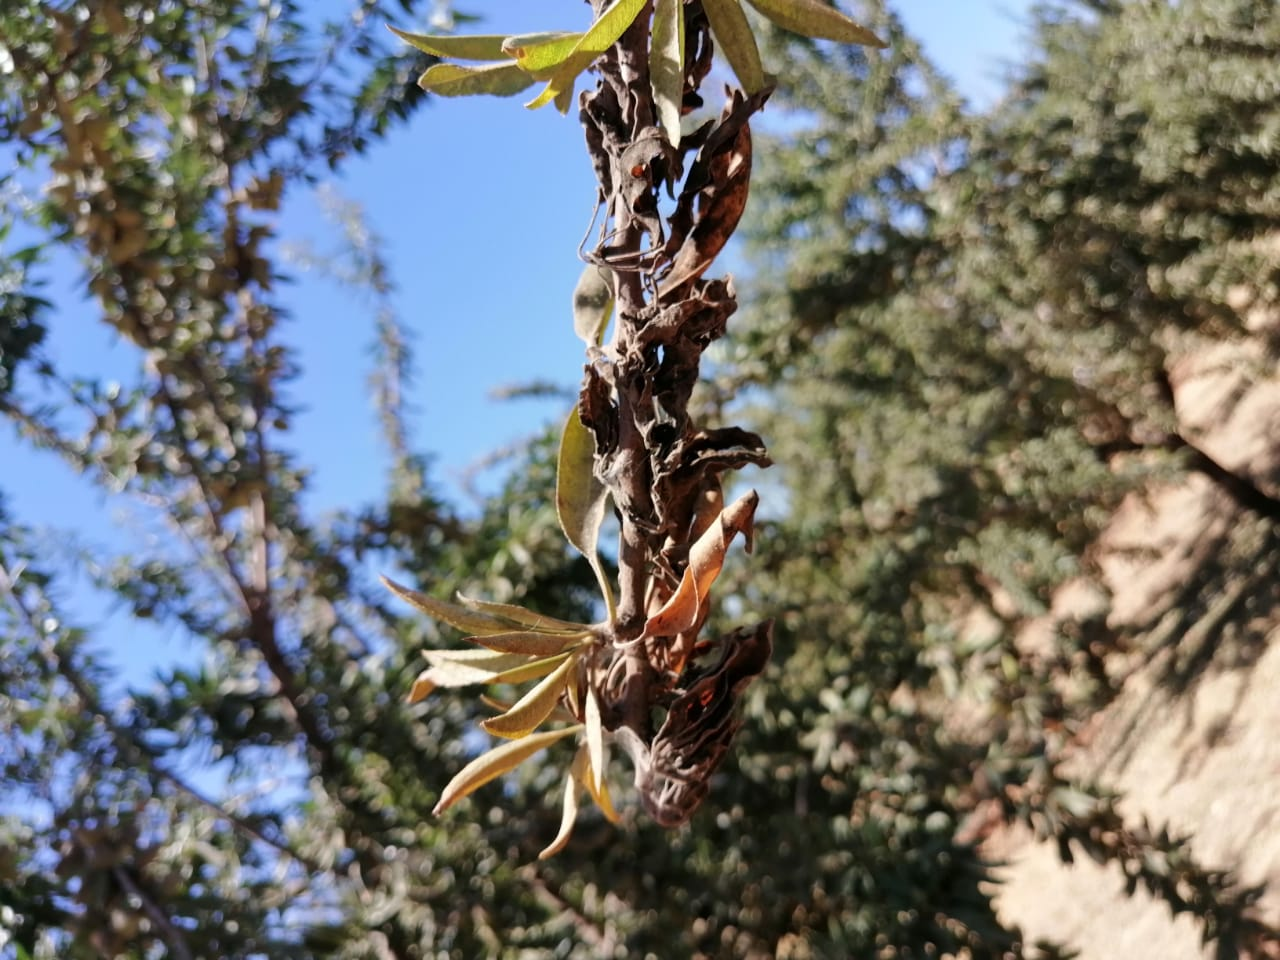scolytes: (577, 7, 771, 822)
